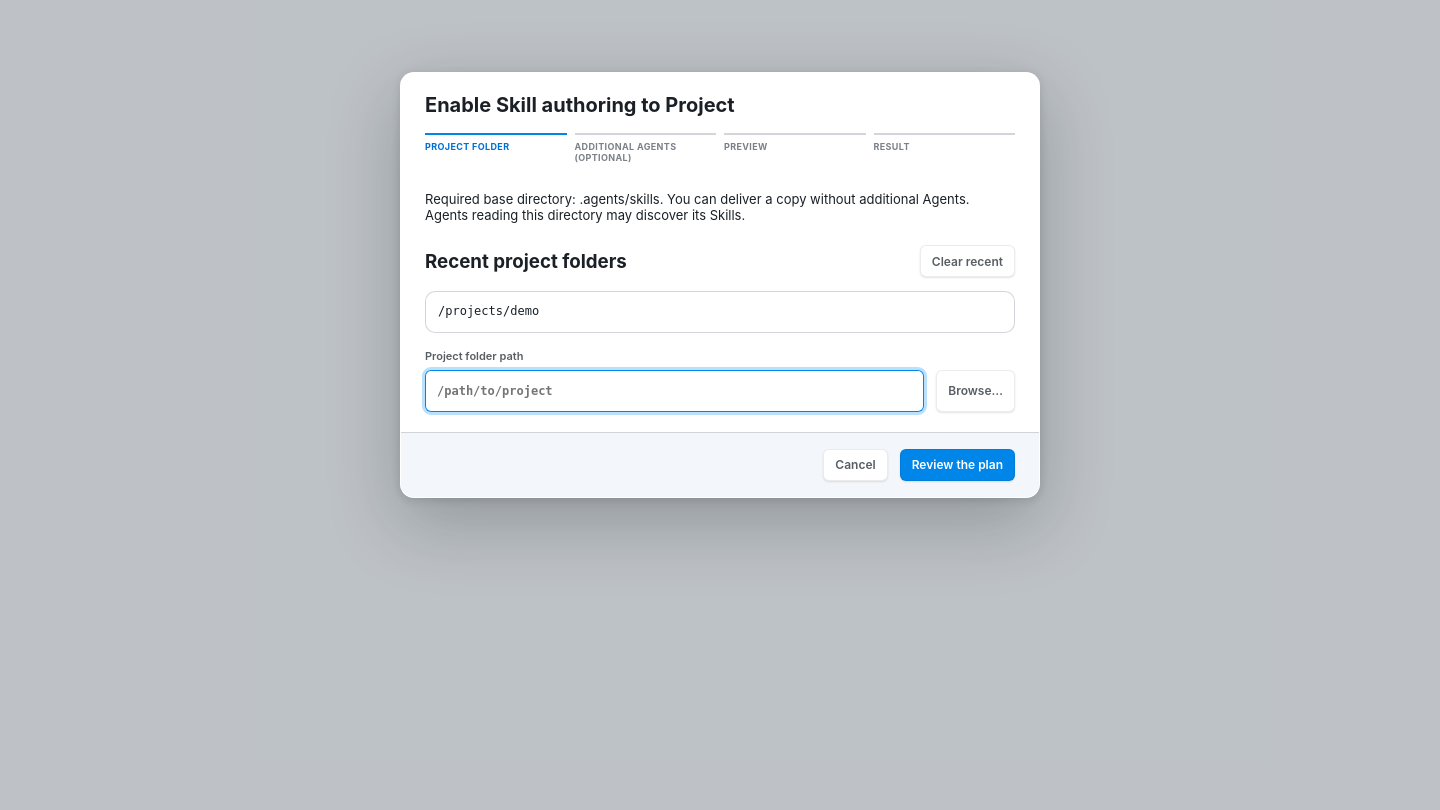
Test: recent project folders candidate selection and clear
This screenshot has width=1440, height=810.
Expected: the heading "Recent project folders" is shown, [425,250,627,273]
Click the button "Clear recent" at (967, 261), box [920,245,1015,277]
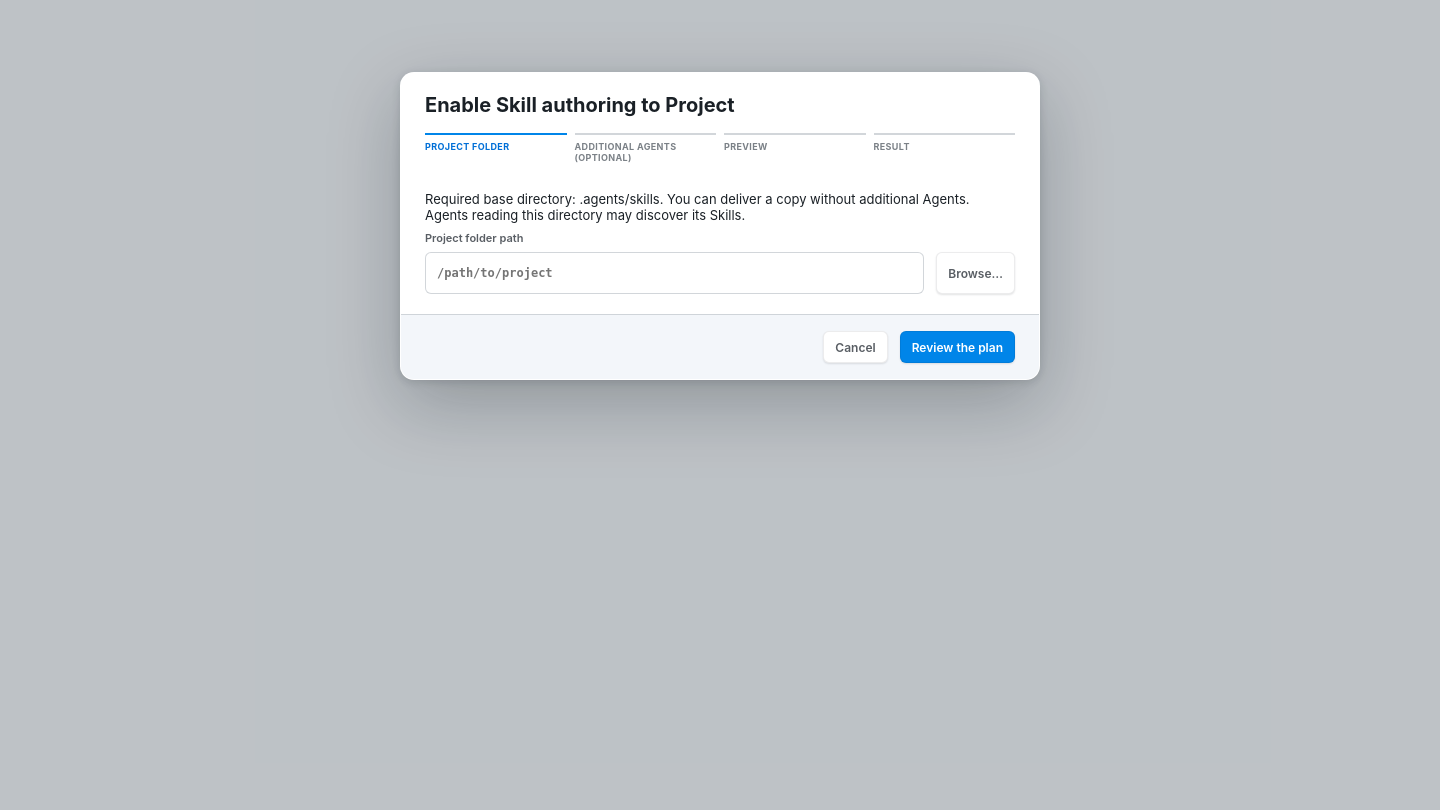
Now the heading "Recent project folders" is gone
